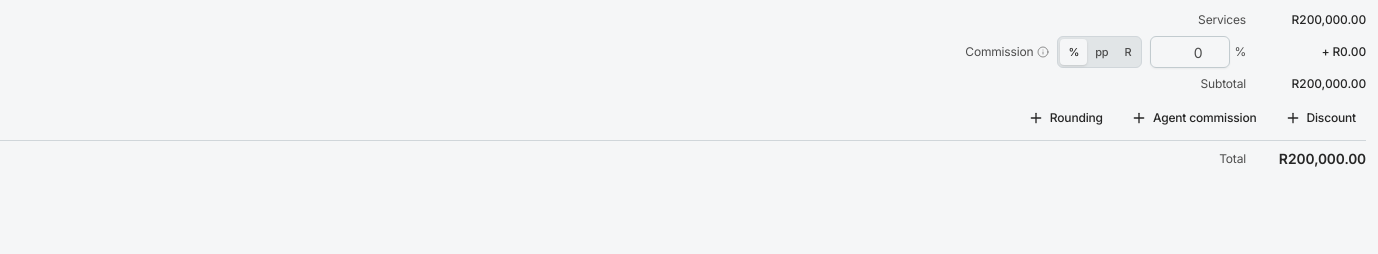
Scenario: QuoteAdjustmentsLedger › warns inline when a per-person amount is used on a booking with no travellers
Click the radio button with aria-label "Per person": x=1102, y=52 [1087,39,1116,65]
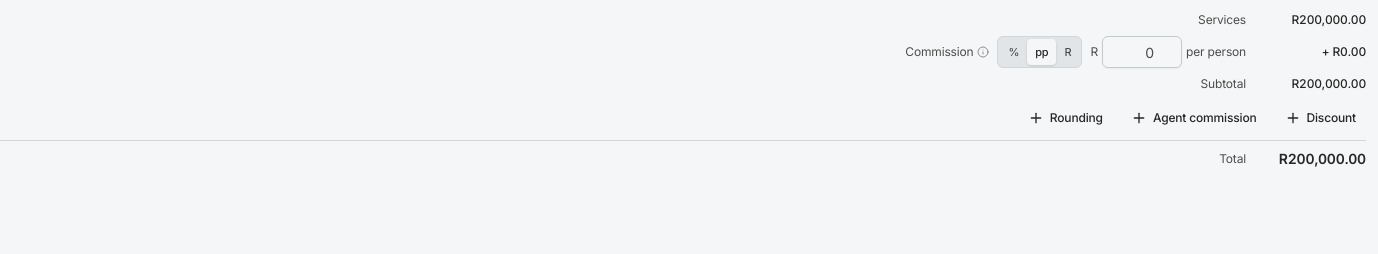
In the number field with placeholder "0": x=1142, y=52 [1102,36,1182,68], type "5000"
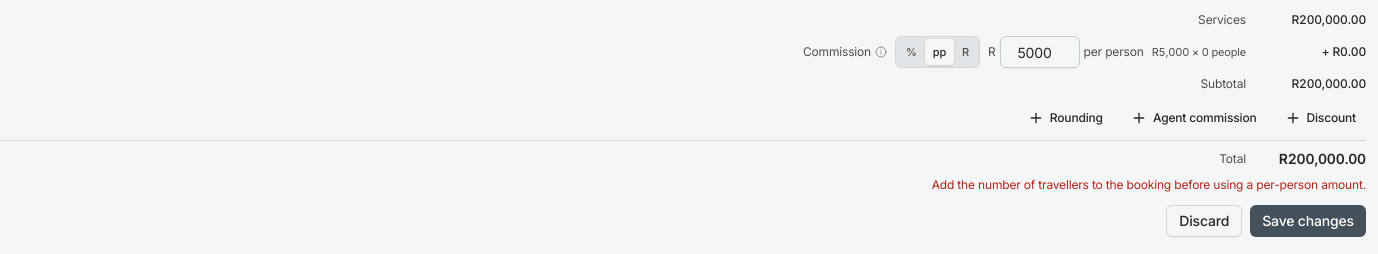
expect the message reads "Add the number of travellers to the booking before using a per-person amount.": met, box [932,177,1366,192]
